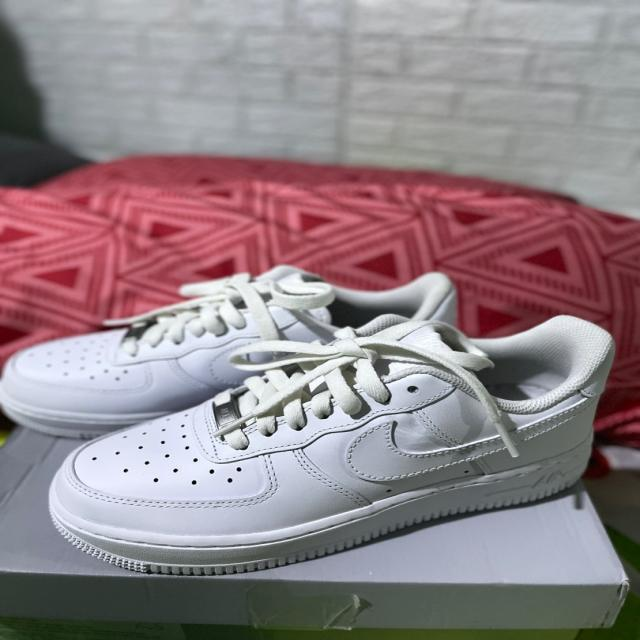nike original air force: (49, 309, 620, 576), (6, 265, 496, 439)
